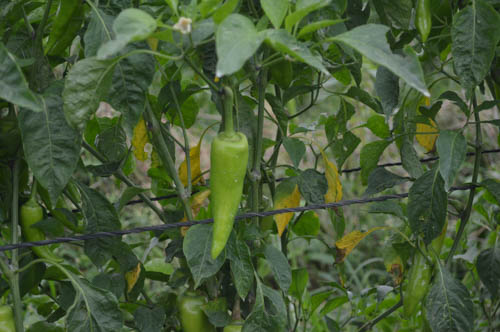ChiliPepper: (209, 136, 251, 262), (407, 226, 444, 319), (22, 203, 54, 264)
